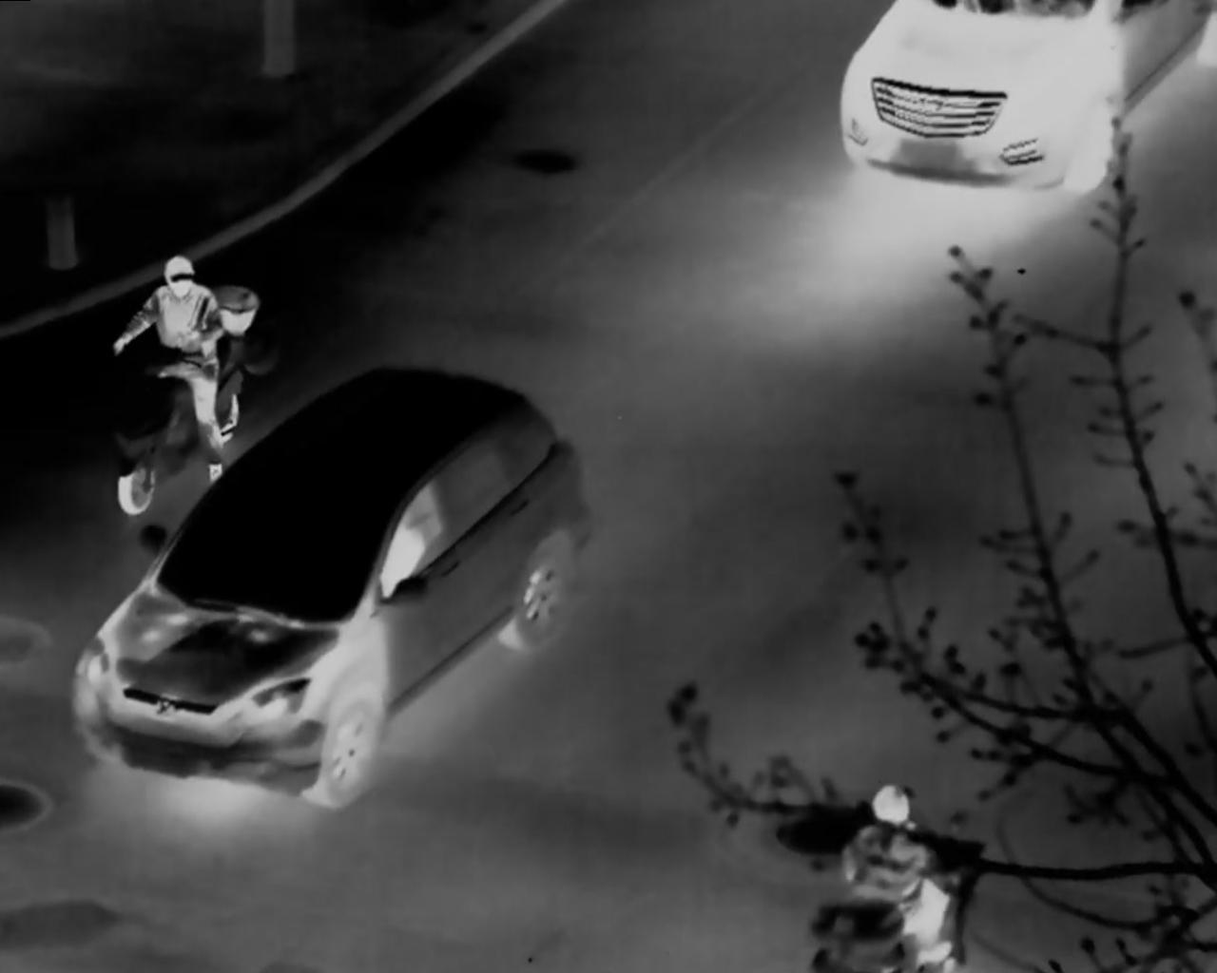person: (122, 264, 242, 475), (844, 783, 958, 973)
